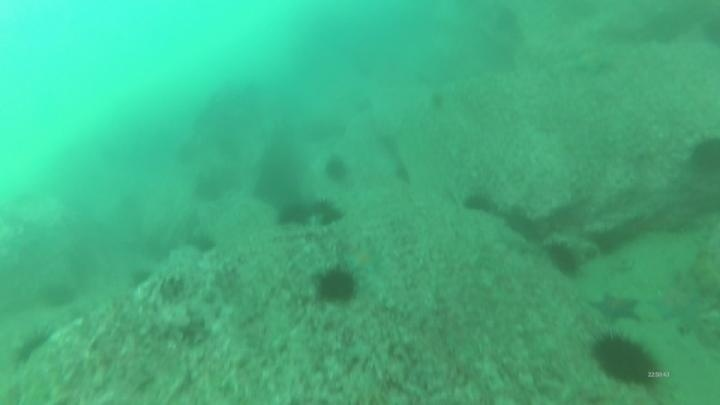echinus: (589, 330, 662, 389), (10, 326, 56, 368), (313, 265, 359, 306), (544, 239, 583, 279), (687, 133, 720, 176), (37, 279, 78, 311), (274, 199, 314, 229), (191, 173, 226, 204), (461, 190, 497, 217), (322, 154, 352, 184), (190, 231, 218, 256), (127, 266, 153, 290), (427, 90, 448, 112), (322, 208, 345, 226), (310, 198, 335, 213)
starfish: (646, 285, 699, 322), (590, 290, 643, 325), (568, 43, 618, 79), (345, 235, 385, 277)
